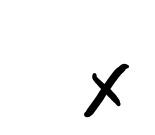mult: (83, 63, 129, 118)
